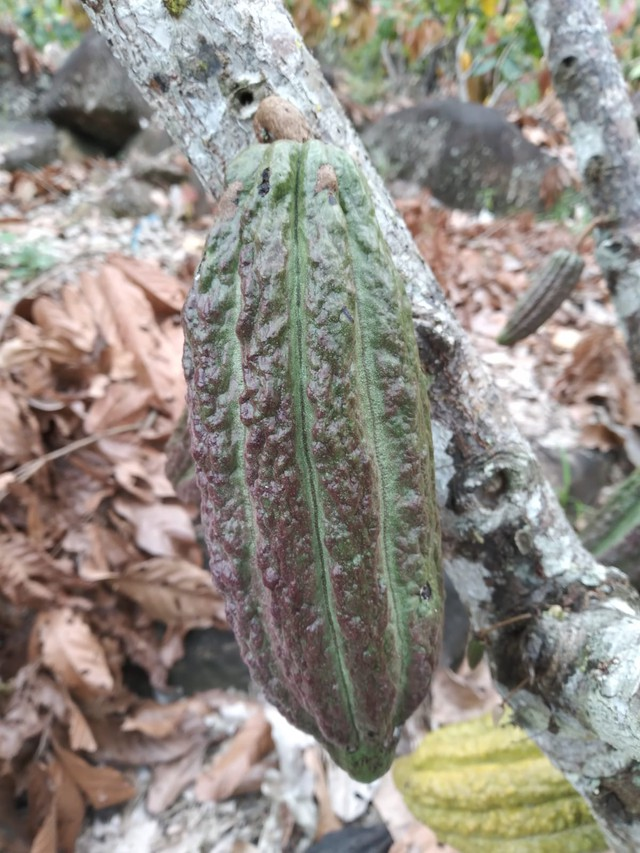Health: (167, 136, 459, 790)
